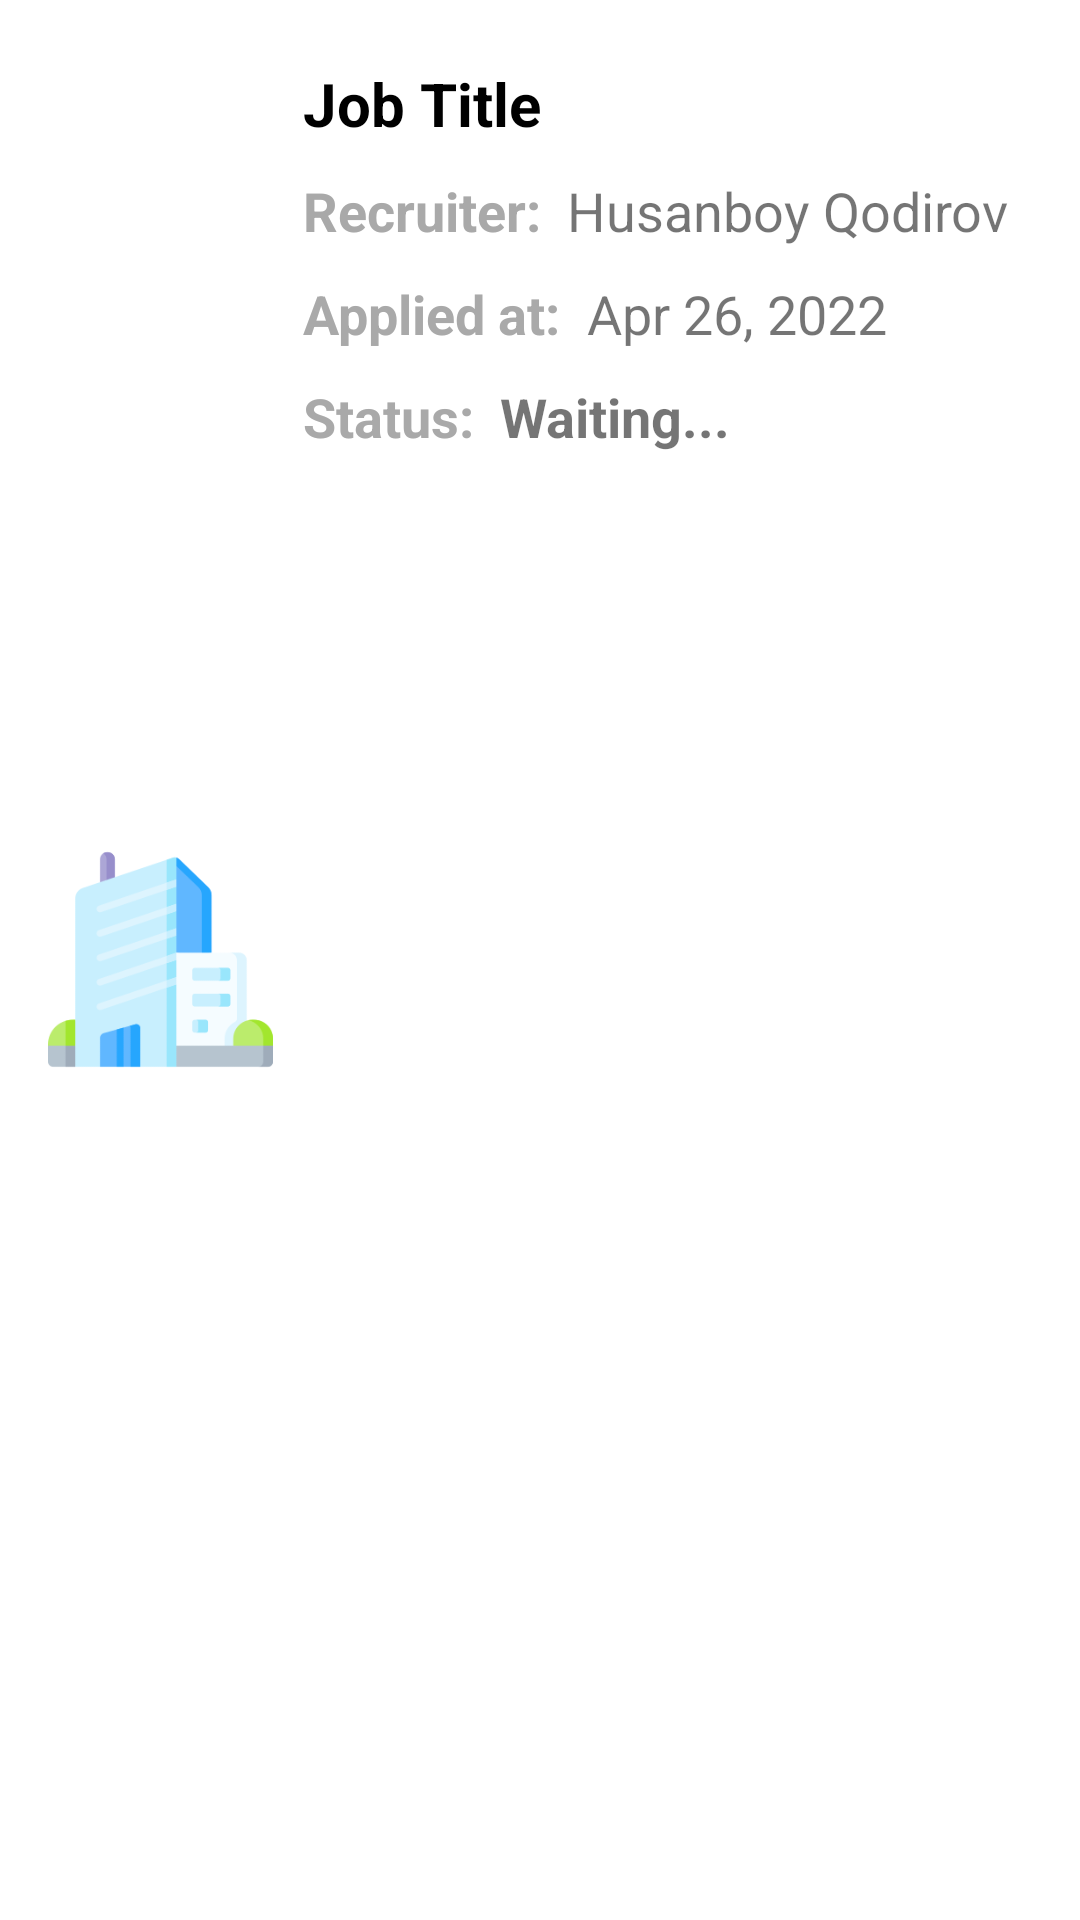

Icon click points for this 1080px×1920px phone screenshot, format point (x, y):
corporation: point (160, 959)
